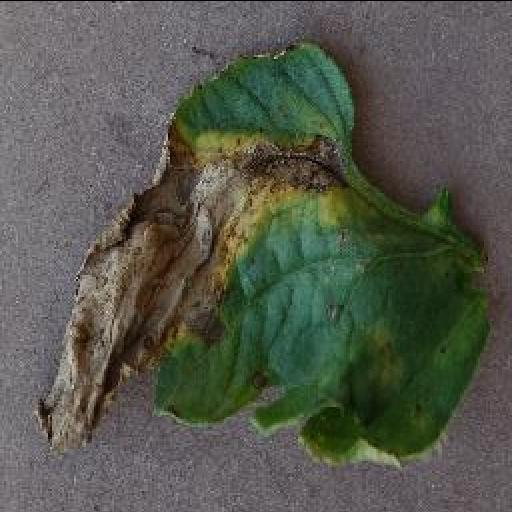disease_tomato: (36, 38, 500, 462)
